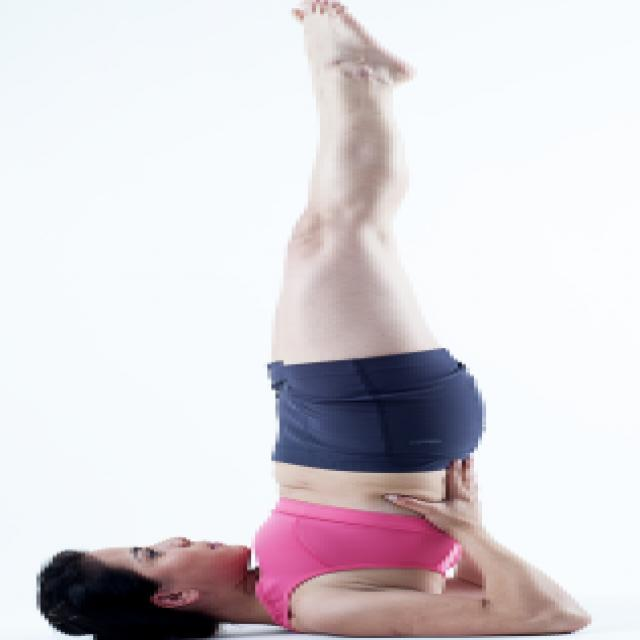yoga-pose shoulderstand: (44, 1, 598, 636)
